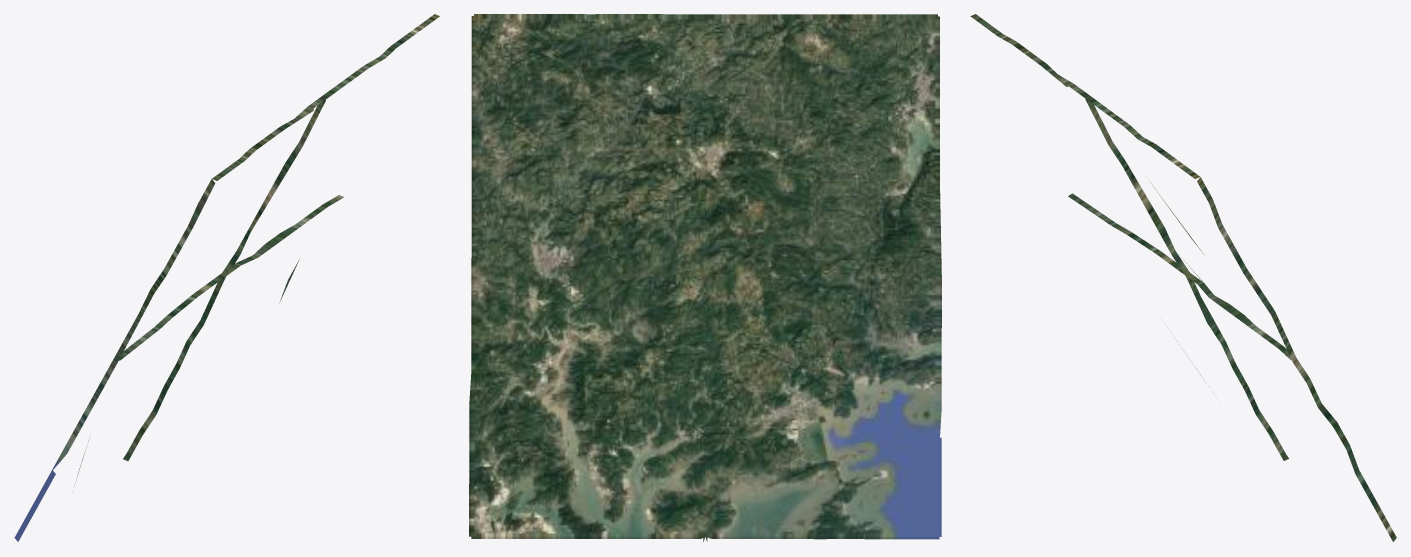
3 views of the same model, side by side, from view 1: azimuth 30°, elevation 25°; view 2: azimuth 150°, elevation 25°; view 3: azimuth 270°, elevation 25° (orthographic). The views are drawn at different scales.
Size of the model in its own units: 78881 by 70823 by 66418.
1 material, 1 textured.
